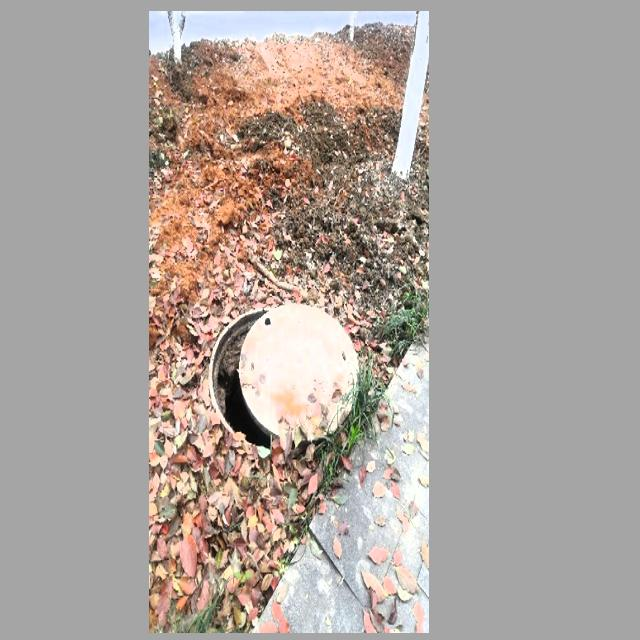uncovered: (209, 301, 358, 452)
